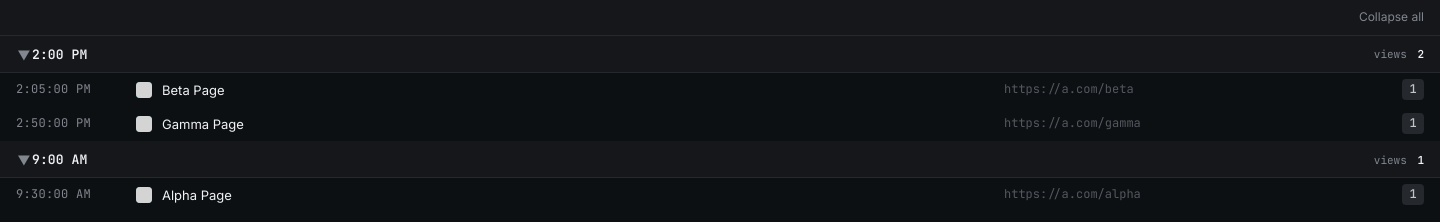
Test case: DayView — collapse per hour › restores rows when chevron is clicked again
The image size is (1440, 222).
Click the button named "Collapse hour": (24, 55) 15,47 -> 33,63
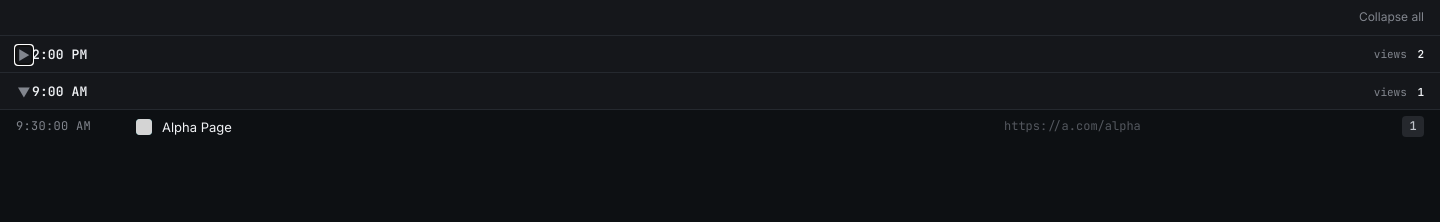
Click the button named "Expand hour": (24, 55) 16,46 -> 32,64
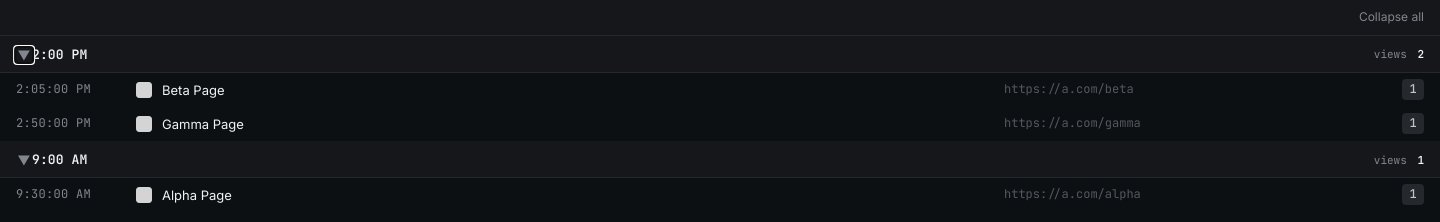
Result: the text "Beta Page" is shown at 162,81 -> 224,99
Result: the text "Gamma Page" is shown at 162,115 -> 244,133
